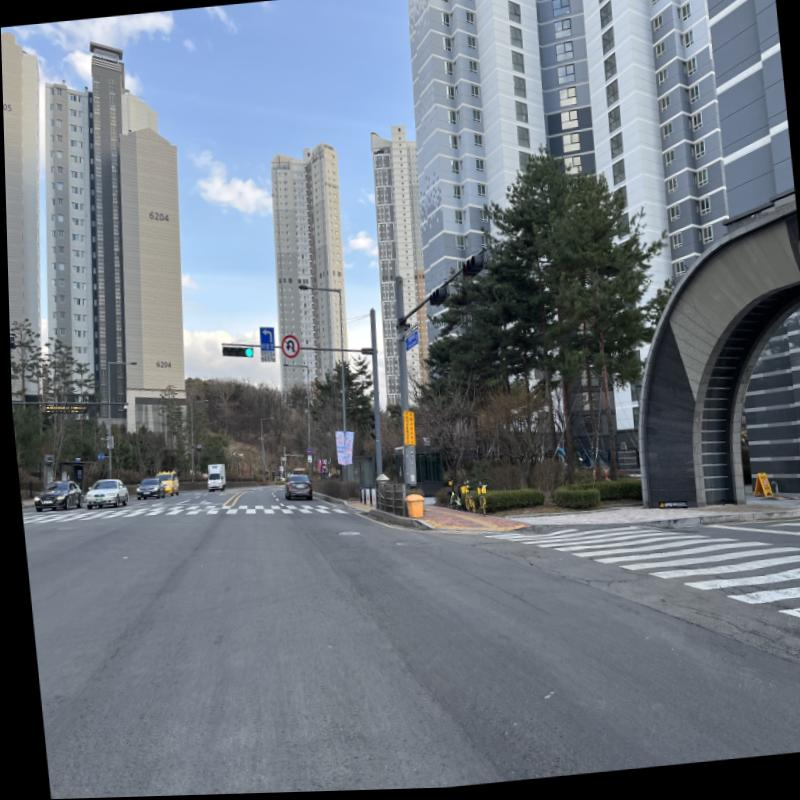green: (242, 348, 250, 358)
